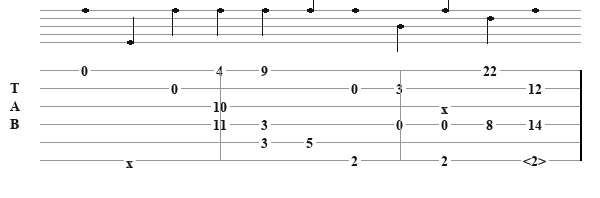0: (81, 63, 92, 77), (171, 81, 182, 95), (351, 81, 362, 95), (396, 117, 407, 131), (441, 117, 452, 131)
10: (213, 99, 231, 113)
11: (213, 117, 231, 131)
12: (528, 81, 546, 95)
14: (528, 117, 546, 131)
2: (351, 153, 362, 167), (441, 153, 452, 167)
22: (483, 63, 501, 77)
3: (261, 135, 272, 149), (261, 117, 272, 131), (396, 81, 407, 95)
4: (216, 63, 227, 77)
5: (306, 135, 317, 149)
8: (486, 117, 497, 131)
9: (261, 63, 272, 77)
harmonic: (523, 153, 550, 167)
x: (126, 155, 137, 166), (441, 101, 452, 112)
